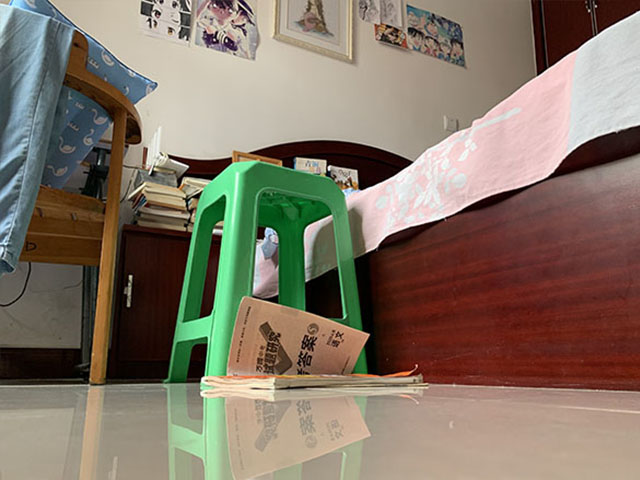bed: (166, 8, 639, 394)
book: (198, 294, 429, 394)
cabinet: (106, 221, 223, 382)
stool: (1, 5, 141, 386), (161, 160, 370, 385)
